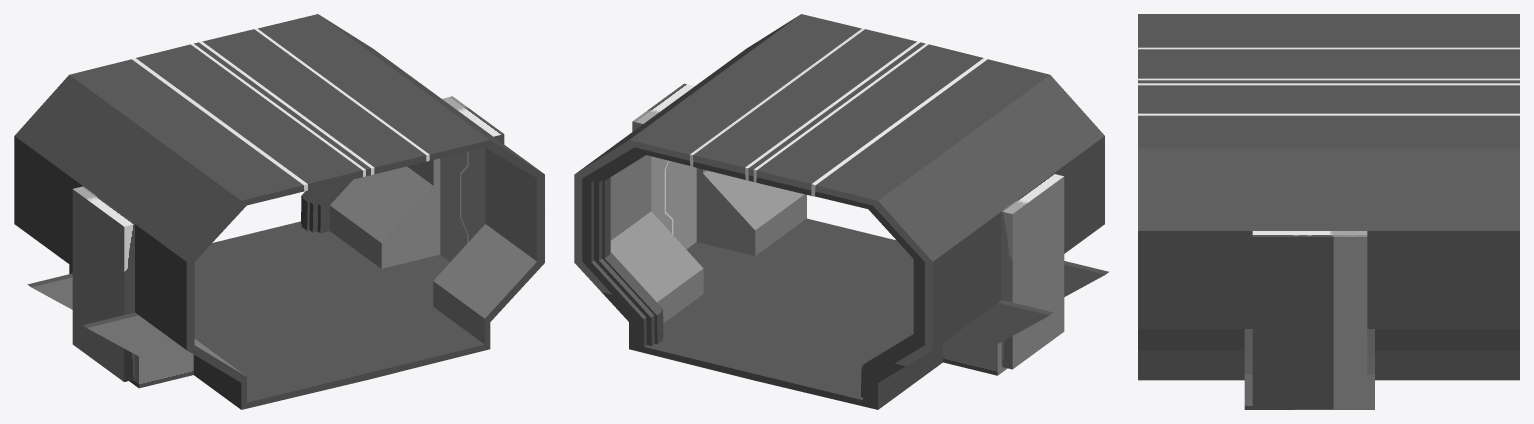
File: Walls_Doors 1.fbx
The picture shows the model from 3 angles, left to right: view 1: azimuth 30°, elevation 25°; view 2: azimuth 150°, elevation 25°; view 3: azimuth 270°, elevation 25°; orthographic projection. The views are drawn at different scales.
Parts seen in each view (by area): view 1: Walls_Doors; view 2: Walls_Doors; view 3: Walls_Doors.
Part boxes in pixels (x1,y1,x2,y2): Walls_Doors: (14, 14, 544, 409); Walls_Doors: (574, 14, 1108, 409); Walls_Doors: (1138, 14, 1519, 409).
Size of the model in its own units: 1901 by 834 by 1235.
